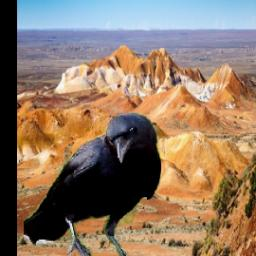Crow: (25, 113, 162, 256)
